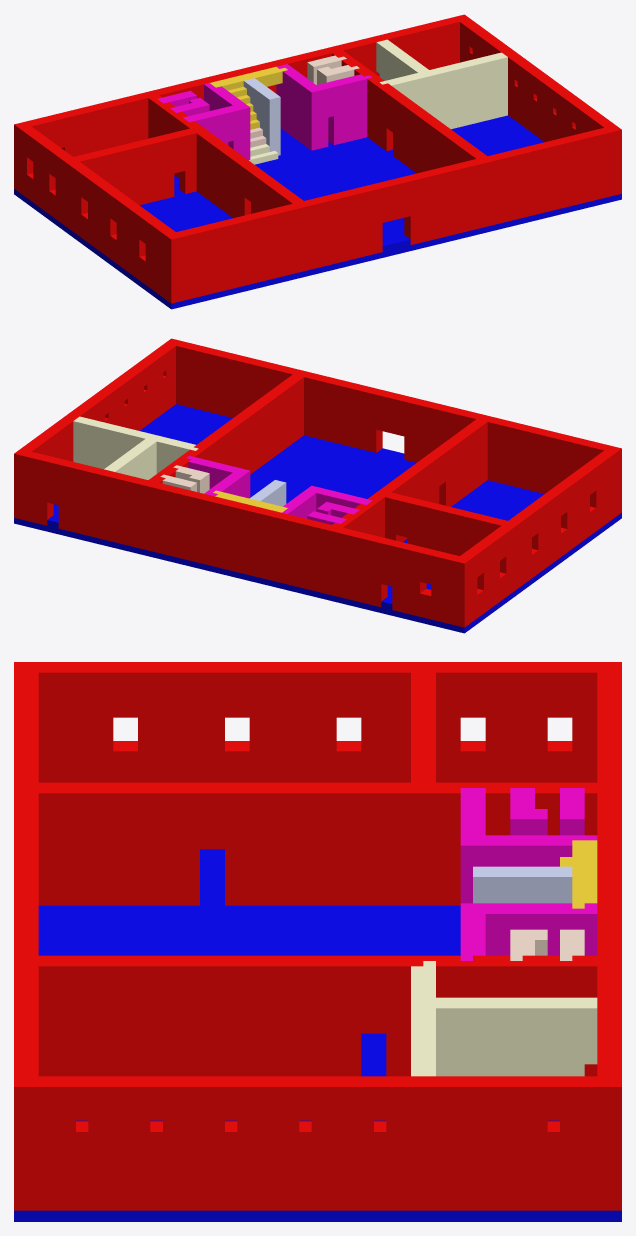
The model's file is convitto_simple.glb.
3 views of the same model, one above another, from view 1: azimuth 30°, elevation 25°; view 2: azimuth 150°, elevation 25°; view 3: azimuth 270°, elevation 25° (orthographic). The views are drawn at different scales.
Visible parts, largest first — view 1: GoxelVoxelScene; view 2: GoxelVoxelScene; view 3: GoxelVoxelScene.
Boxes of the visible parts, left/top/right/bottom form: GoxelVoxelScene: left=14, top=14, right=621, bottom=309; GoxelVoxelScene: left=14, top=338, right=621, bottom=633; GoxelVoxelScene: left=14, top=662, right=621, bottom=1221.
Size of the model in its own units: 40.5 by 6 by 24.5.
